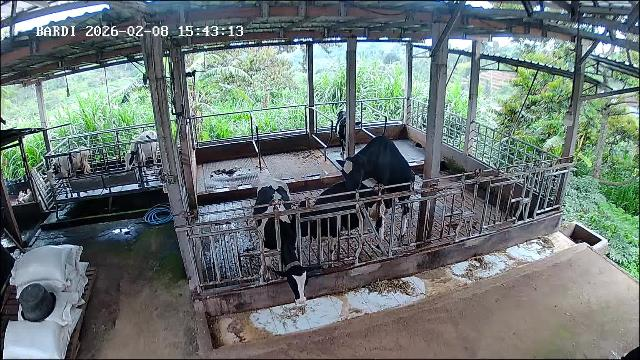mounting: (341, 133, 412, 239)
